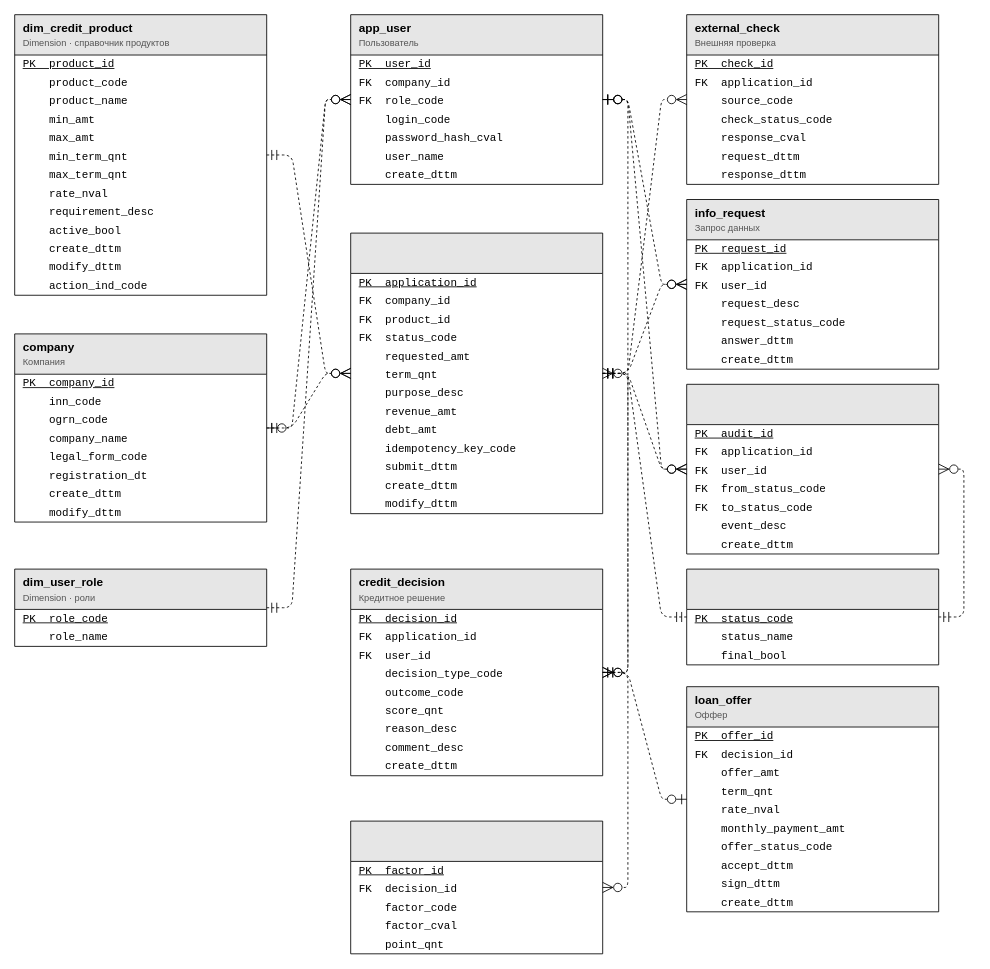
This 990x969 diagram has some shape labels left out. Here are the shapes that lost their labels. From the top down, the box of each, then its label:
(350, 232, 603, 514): loan_application Кредитная заявка
(686, 383, 939, 554): loan_application_aud Audit · история заявки
(686, 568, 939, 665): dim_application_status Dimension · статусы
(350, 820, 603, 954): decision_factor Фактор решения
